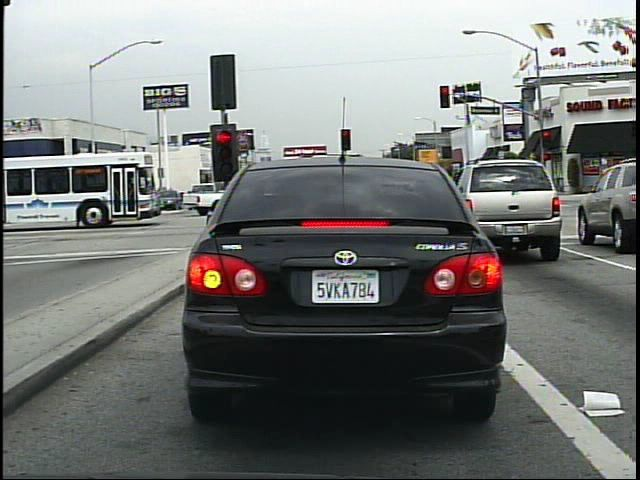person: (81, 183, 103, 218)
